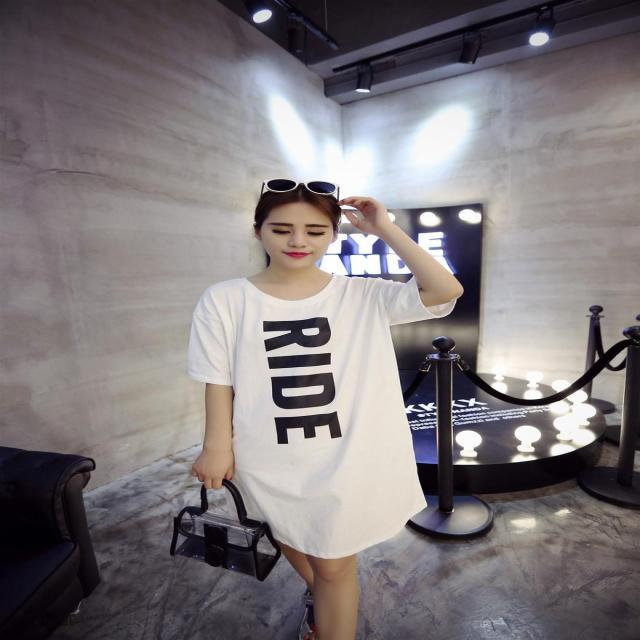short-sleeve-dress: (178, 258, 497, 564)
